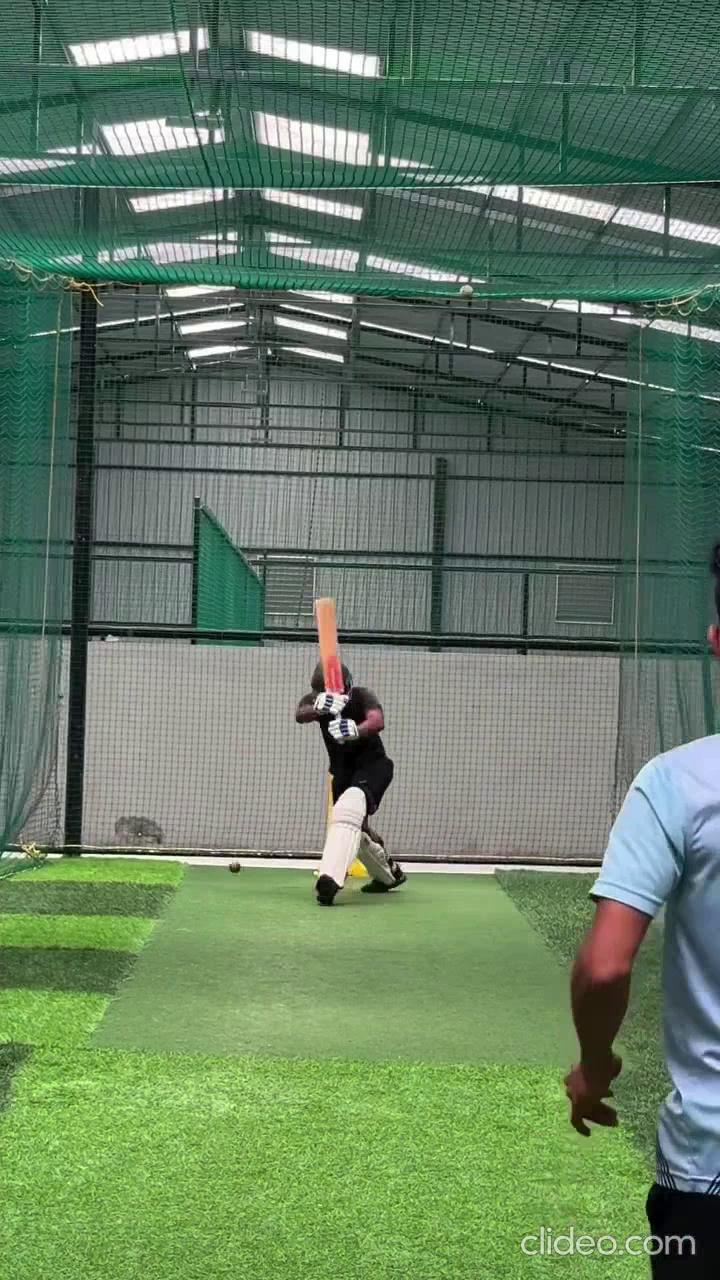bat: (314, 595, 345, 696)
